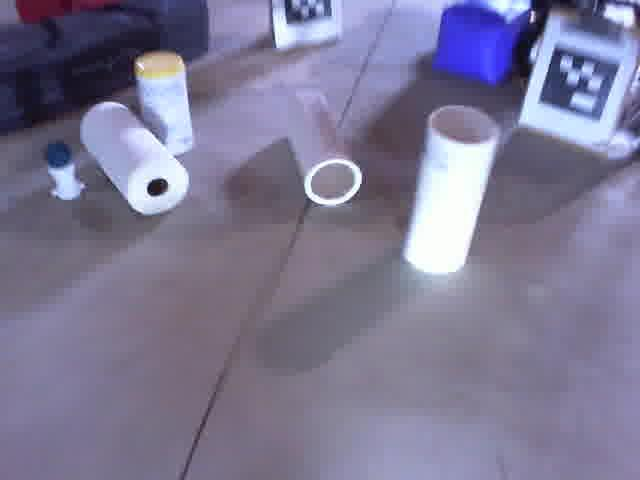coral: (391, 98, 510, 279), (273, 83, 375, 212)
